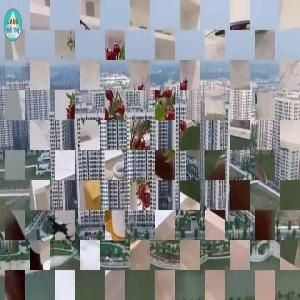drone: (33, 210, 77, 254)
